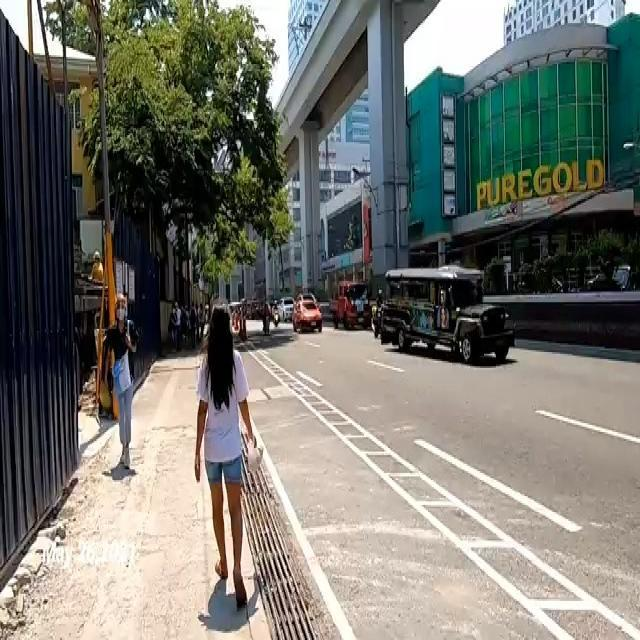car: (292, 298, 322, 334)
jeepney: (383, 264, 516, 364)
motorcycle: (371, 286, 384, 340), (271, 299, 280, 327)
truck: (328, 277, 370, 332)
